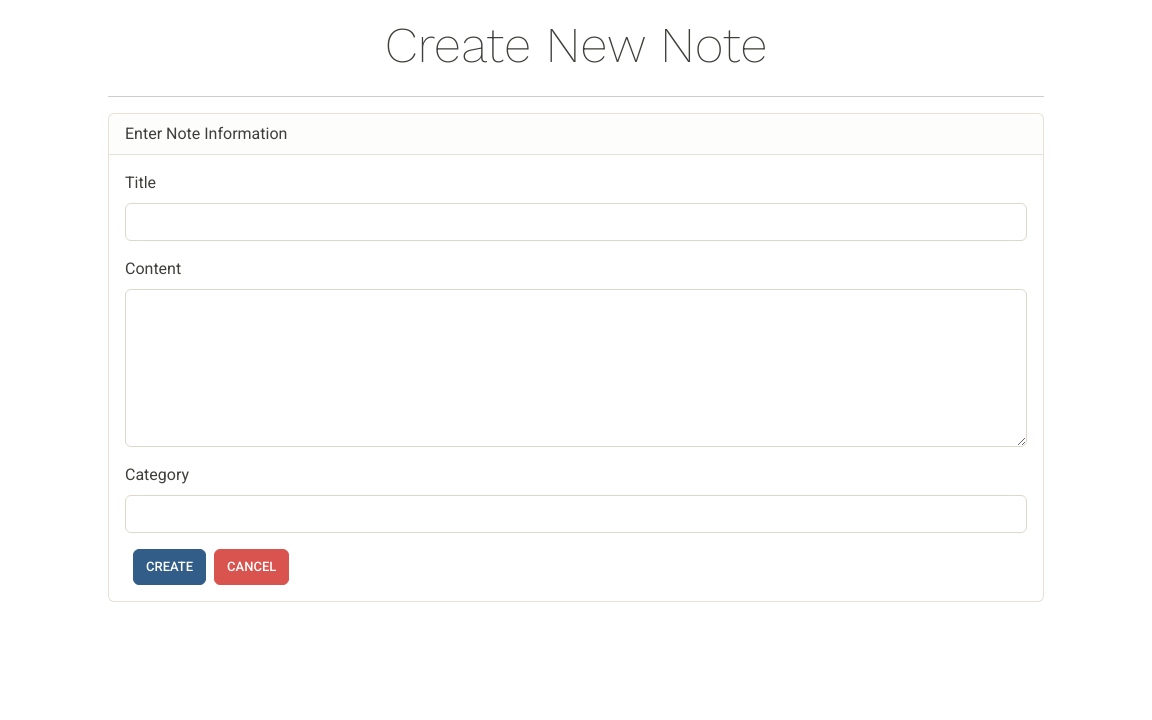
CreateNote › should show validation messages when fields are empty
This screenshot has width=1152, height=720.
Click the button "Create": (170, 567) [133, 549, 206, 585]
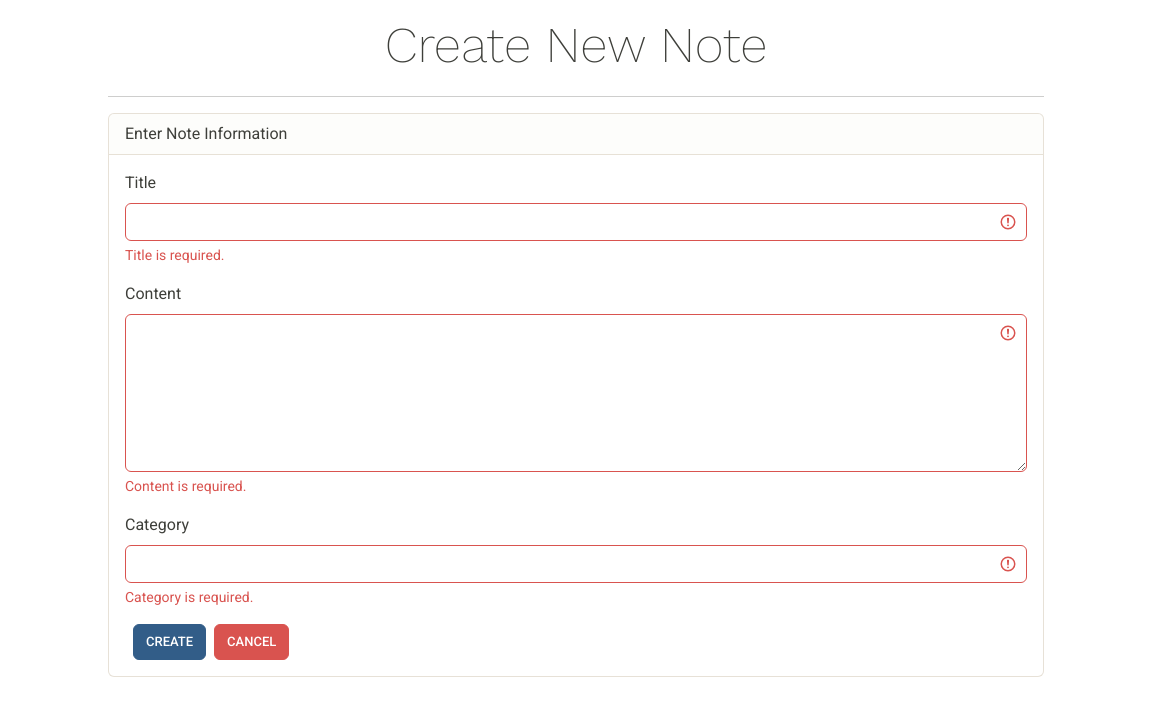
Expected: the text "Title is required." is shown, [125, 247, 224, 263]
Expected: the text "Content is required." is shown, [125, 478, 246, 494]
Expected: the text "Category is required." is shown, [125, 589, 253, 605]
